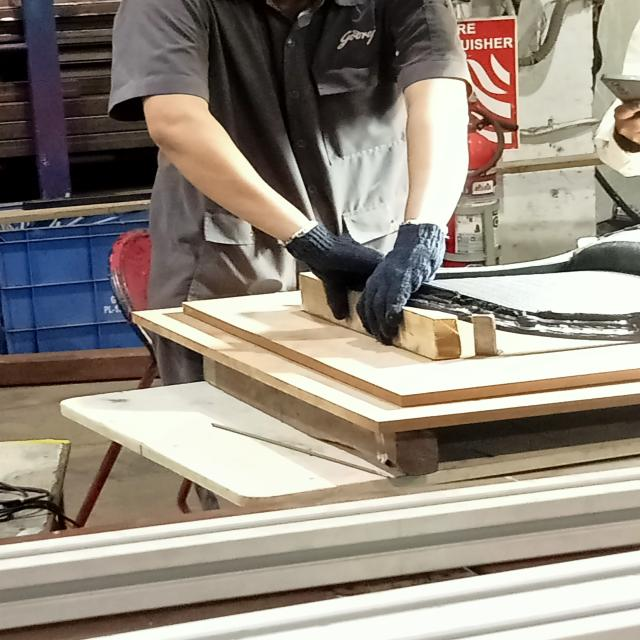Gloves-Detection: (301, 230, 451, 331)
